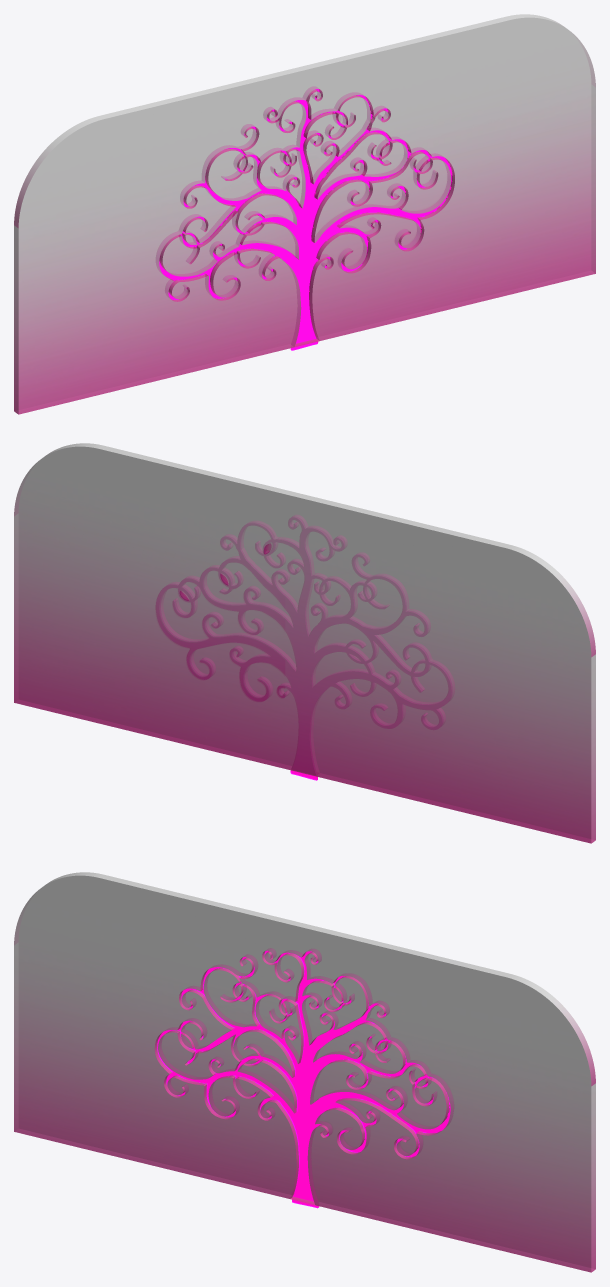
File: stand_2.glb
3 renders of one model, top to bottom at view 1: azimuth 30°, elevation 25°; view 2: azimuth 150°, elevation 25°; view 3: azimuth 330°, elevation 25°, orthographic.
Parts seen in each view (by area): view 1: PRINCIPALE002, Albero002; view 2: PRINCIPALE002; view 3: PRINCIPALE002, Albero002.
Part boxes in pixels (bbox=[...]): PRINCIPALE002: bbox=[14, 14, 595, 414]; Albero002: bbox=[159, 89, 452, 350]; PRINCIPALE002: bbox=[14, 443, 595, 843]; PRINCIPALE002: bbox=[14, 872, 595, 1272]; Albero002: bbox=[157, 950, 450, 1208].
Size of the model in its own units: 11 by 5.1 by 0.1504.
2 materials, 2 textured.
